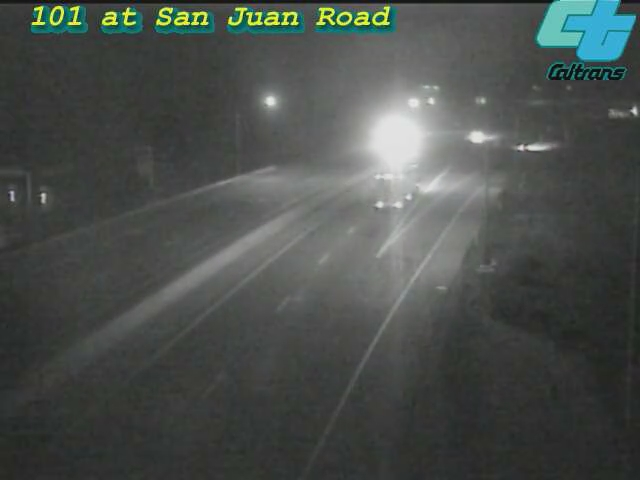vehicle: (358, 148, 438, 228), (365, 116, 415, 166), (455, 111, 505, 161), (500, 122, 550, 172)
